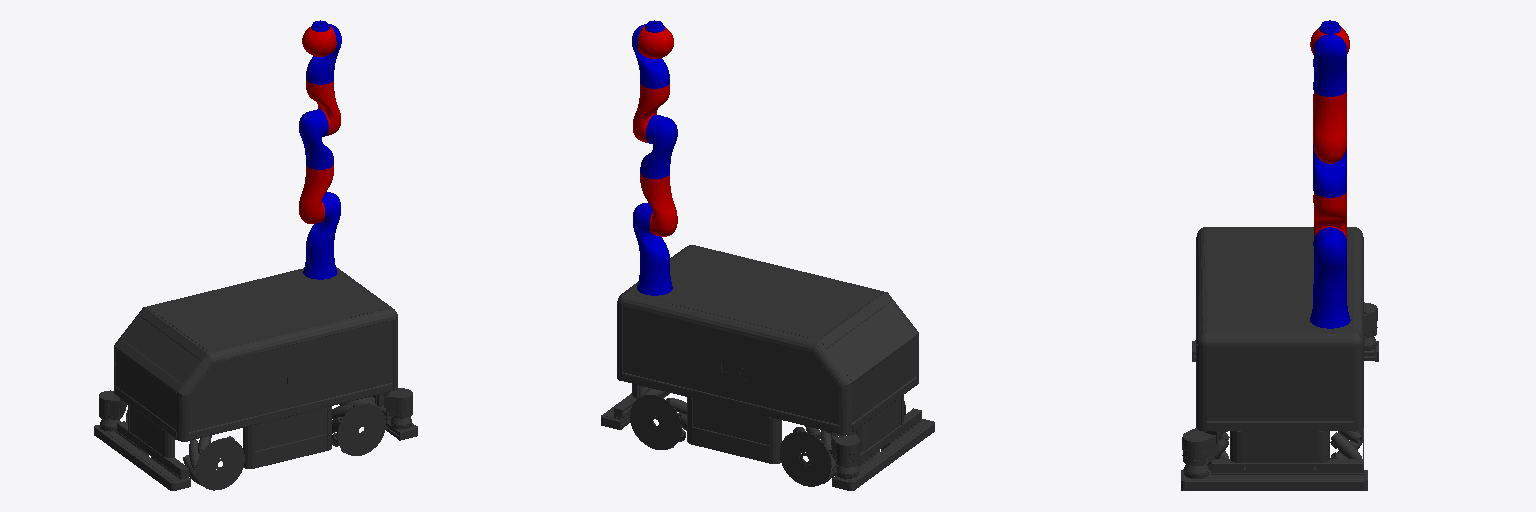
robot.urdf — omnirob:
<?xml version="1.0" ?>
<!-- =================================================================================== -->
<!-- |    This document was autogenerated by xacro from omnirob.xacro                  | -->
<!-- |    EDITING THIS FILE BY HAND IS NOT RECOMMENDED                                 | -->
<!-- =================================================================================== -->
<robot name="omnirob" xmlns:xacro="http://ros.org/wiki/xacro">
  <!-- Import all Gazebo-customization elements, including Gazebo colors -->
  <!-- ros_control plugin -->
  <gazebo>
    <plugin filename="libgazebo_ros_control.so" name="gazebo_ros_control">
      <robotNamespace>/lbr</robotNamespace>
      <robotSimType>gazebo_ros_control/DefaultRobotHWSim</robotSimType>
    </plugin>
  </gazebo>
  <!-- Link0 -->
  <gazebo reference="lbr_0_link">
    <material>Gazebo/Blue</material>
  </gazebo>
  <!-- Link1 -->
  <gazebo reference="lbr_1_link">
    <material>Gazebo/Red</material>
  </gazebo>
  <!-- Link2 -->
  <gazebo reference="lbr_2_link">
    <material>Gazebo/Blue</material>
  </gazebo>
  <!-- Link3 -->
  <gazebo reference="lbr_3_link">
    <material>Gazebo/Red</material>
  </gazebo>
  <!-- Link4 -->
  <gazebo reference="lbr_4_link">
    <material>Gazebo/Blue</material>
  </gazebo>
  <!-- Link5 -->
  <gazebo reference="lbr_5_link">
    <material>Gazebo/Red</material>
  </gazebo>
  <!-- Link6 -->
  <gazebo reference="lbr_6_link">
    <material>Gazebo/Blue</material>
  </gazebo>
  <!-- Link7 -->
  <gazebo reference="lbr_7_link">
    <material>Gazebo/Red</material>
  </gazebo>
  <!-- Import Rviz colors -->
  <material name="Blue">
    <color rgba="0.0 0.0 0.8 1.0"/>
  </material>
  <material name="Green">
    <color rgba="0.0 0.8 0.0 1.0"/>
  </material>
  <material name="Grey">
    <color rgba="0.7 0.7 0.7 1.0"/>
  </material>
  <material name="Grey2">
    <color rgba="0.9 0.9 0.9 1.0"/>
  </material>
  <material name="Red">
    <color rgba="0.8 0.0 0.0 1.0"/>
  </material>
  <material name="orange">
    <color rgba="1.0 0.423529411765 0.0392156862745 1.0"/>
  </material>
  <material name="brown">
    <color rgba="0.870588235294 0.811764705882 0.764705882353 1.0"/>
  </material>
  <material name="White">
    <color rgba="1.0 1.0 1.0 1.0"/>
  </material>
  <material name="Black">
    <color rgba="0.0 0.0 0.0 1.0"/>
  </material>
  <material name="Gray">
    <color rgba="0.25 0.25 0.25 1.0"/>
  </material>
  <link name="base_link">
    <visual>
      <origin rpy="0 0 0" xyz="0 0 0"/>
      <geometry>
        <mesh filename="package://omnirob_description/meshes/omnirob_hull.stl" scale="0.001 0.001 0.001"/>
      </geometry>
      <material name="Gray"/>
    </visual>
    <collision>
      <origin rpy="0 0 0" xyz="0 0 0"/>
      <geometry>
        <mesh filename="package://omnirob_description/meshes/omnirob_hull_low_res.stl" scale="0.001 0.001 0.001"/>
      </geometry>
    </collision>
  </link>
  <link name="laser_front_link">
        </link>
  <link name="laser_rear_link">
        </link>
  <joint name="laser_front_joint" type="fixed">
    <parent link="base_link"/>
    <child link="laser_front_link"/>
    <origin rpy="0 0 -0.78893" xyz="0.542477 -0.317722 0.13664"/>
  </joint>
  <joint name="laser_rear_joint" type="fixed">
    <parent link="base_link"/>
    <child link="laser_rear_link"/>
    <origin rpy="0 0 2.31624" xyz="-0.534443 0.32895 0.13664"/>
  </joint>
  <!-- Used for fixing robot to Gazebo 'base_link' -->
  <!--<link name="world"/>
		
		<joint name="fixed" type="fixed">
		  <parent link="world"/>
		  <child link="${name}_0_link"/>
		</joint>-->
  <link name="lbr_0_link">
    <inertial>
      <origin rpy="0 0 0" xyz="0 0 0"/>
      <mass value="1.0"/>
      <inertia ixx="0.01" ixy="0" ixz="0" iyy="0.01" iyz="0" izz="0.01"/>
    </inertial>
    <visual>
      <origin rpy="0 0 0" xyz="0 0 0"/>
      <geometry>
        <mesh filename="package://omnirob_description/meshes/lbr0.stl"/>
      </geometry>
      <material name="Blue"/>
    </visual>
    <collision>
      <origin rpy="0 0 0" xyz="0 0 0"/>
      <geometry>
        <mesh filename="package://omnirob_description/meshes/lbr0_low_res.stl"/>
      </geometry>
    </collision>
  </link>
  <!-- joint between arm_0_link and arm_1_link -->
  <joint name="lbr_1_joint" type="revolute">
    <!--<origin xyz="0 0 0.14" rpy="0 0 -2.8407"/> -->
    <origin rpy="0 0 0" xyz="0 0 0.1105"/>
    <parent link="lbr_0_link"/>
    <child link="lbr_1_link"/>
    <axis xyz="0 0 1"/>
    <dynamics damping="25"/>
    <limit effort="200" lower="-2.9670" upper="2.9670" velocity="1.9634"/>
  </joint>
  <link name="lbr_1_link">
    <inertial>
      <origin rpy="0 0 0" xyz="0 0 0"/>
      <mass value="5.9907"/>
      <inertia ixx="0.01" ixy="0" ixz="0" iyy="0.01" iyz="0" izz="0.01"/>
    </inertial>
    <visual>
      <origin rpy="0 0 0" xyz="0 0 0"/>
      <geometry>
        <mesh filename="package://omnirob_description/meshes/lbr1.stl"/>
      </geometry>
      <material name="Blue"/>
    </visual>
    <collision>
      <origin rpy="0 0 0" xyz="0 0 0"/>
      <geometry>
        <mesh filename="package://omnirob_description/meshes/lbr1_low_res.stl"/>
      </geometry>
    </collision>
  </link>
  <!-- joint between arm_1_link and arm_2_link -->
  <joint name="lbr_2_joint" type="revolute">
    <origin rpy="1.5708 0 0" xyz="0 0 0.1915"/>
    <parent link="lbr_1_link"/>
    <child link="lbr_2_link"/>
    <axis xyz="0 0 1"/>
    <dynamics damping="25"/>
    <limit effort="200" lower="-2.0943" upper="2.0943" velocity="1.9634"/>
  </joint>
  <link name="lbr_2_link">
    <inertial>
      <origin rpy="0 0 0" xyz="0 0 0.002"/>
      <mass value="5.734939"/>
      <inertia ixx="0.03" ixy="0" ixz="0" iyy="0.03" iyz="0" izz="0.03"/>
    </inertial>
    <visual>
      <origin rpy="0 0 0" xyz="0 0 0.002"/>
      <geometry>
        <mesh filename="package://omnirob_description/meshes/lbr2.stl"/>
      </geometry>
      <material name="Red"/>
    </visual>
    <collision>
      <origin rpy="0 0 0" xyz="0 0 0.002"/>
      <geometry>
        <mesh filename="package://omnirob_description/meshes/lbr2_low_res.stl"/>
      </geometry>
    </collision>
  </link>
  <!-- joint between arm_2_link and arm_3_link -->
  <joint name="lbr_3_joint" type="revolute">
    <origin rpy="-1.5708 0 0" xyz="0 0.2085 0"/>
    <parent link="lbr_2_link"/>
    <child link="lbr_3_link"/>
    <axis xyz="0 0 1"/>
    <dynamics damping="25"/>
    <limit effort="100" lower="-2.9670" upper="2.9670" velocity="1.9634"/>
  </joint>
  <link name="lbr_3_link">
    <inertial>
      <origin rpy="0 0 0" xyz="0 -0.002 0"/>
      <mass value="4.214668"/>
      <inertia ixx="0.03" ixy="0" ixz="0" iyy="0.03" iyz="0" izz="0.03"/>
    </inertial>
    <visual>
      <origin rpy="0 0 0" xyz="0 -0.002 0"/>
      <geometry>
        <mesh filename="package://omnirob_description/meshes/lbr3.stl"/>
      </geometry>
      <material name="Blue"/>
    </visual>
    <collision>
      <origin rpy="0 0 0" xyz="0 -0.002 0"/>
      <geometry>
        <mesh filename="package://omnirob_description/meshes/lbr3_low_res.stl"/>
      </geometry>
    </collision>
  </link>
  <!-- joint between arm_3_link and arm_4_link -->
  <joint name="lbr_4_joint" type="revolute">
    <origin rpy="-1.5708 0 0" xyz="0 0 0.1915"/>
    <parent link="lbr_3_link"/>
    <child link="lbr_4_link"/>
    <axis xyz="0 0 1"/>
    <dynamics damping="25"/>
    <limit effort="100" lower="-2.0943" upper="2.0943" velocity="1.9634"/>
  </joint>
  <link name="lbr_4_link">
    <inertial>
      <origin rpy="0 0 0" xyz="0 0 0"/>
      <mass value="3.669819"/>
      <inertia ixx="0.03" ixy="0" ixz="0" iyy="0.03" iyz="0" izz="0.03"/>
    </inertial>
    <visual>
      <origin rpy="0 0 0" xyz="0 0 0"/>
      <geometry>
        <mesh filename="package://omnirob_description/meshes/lbr4.stl"/>
      </geometry>
      <material name="Red"/>
    </visual>
    <collision>
      <origin rpy="0 0 0" xyz="0 0 0"/>
      <geometry>
        <mesh filename="package://omnirob_description/meshes/lbr4_low_res.stl"/>
      </geometry>
    </collision>
  </link>
  <!-- joint between arm_4_link and arm_5_link -->
  <joint name="lbr_5_joint" type="revolute">
    <origin rpy="1.5708 0 0" xyz="0 -0.2085 0"/>
    <parent link="lbr_4_link"/>
    <child link="lbr_5_link"/>
    <axis xyz="0 0 1"/>
    <dynamics damping="25"/>
    <limit effort="100" lower="-2.9670" upper="2.9670" velocity="3.1415926"/>
  </joint>
  <link name="lbr_5_link">
    <inertial>
      <origin rpy="0 0 0" xyz="0 0 0"/>
      <mass value="2.313272"/>
      <inertia ixx="0.03" ixy="0" ixz="0" iyy="0.03" iyz="0" izz="0.03"/>
    </inertial>
    <visual>
      <origin rpy="0 0 0" xyz="0 0 0"/>
      <geometry>
        <mesh filename="package://omnirob_description/meshes/lbr5.stl"/>
      </geometry>
      <material name="Blue"/>
    </visual>
    <collision>
      <origin rpy="0 0 0" xyz="0 0 0"/>
      <geometry>
        <mesh filename="package://omnirob_description/meshes/lbr5_low_res.stl"/>
      </geometry>
    </collision>
  </link>
  <!-- joint between arm_5_link and arm_6_link -->
  <joint name="lbr_6_joint" type="revolute">
    <origin rpy="1.5708 0 0" xyz="0 0 0.1815"/>
    <parent link="lbr_5_link"/>
    <child link="lbr_6_link"/>
    <axis xyz="0 0 1"/>
    <dynamics damping="25"/>
    <limit effort="30" lower="-2.0943951" upper="2.0943951" velocity="1.9634"/>
  </joint>
  <link name="lbr_6_link">
    <inertial>
      <origin rpy="0 0 0" xyz="0 0 0"/>
      <mass value="2.057856"/>
      <inertia ixx="0.01" ixy="0" ixz="0" iyy="0.01" iyz="0" izz="0.01"/>
    </inertial>
    <visual>
      <origin rpy="0 0 0" xyz="0 0 -0.046"/>
      <geometry>
        <mesh filename="package://omnirob_description/meshes/lbr6.stl"/>
      </geometry>
      <material name="Red"/>
    </visual>
    <collision>
      <origin rpy="0 0 0" xyz="0 0 -0.046"/>
      <geometry>
        <mesh filename="package://omnirob_description/meshes/lbr6_low_res.stl"/>
      </geometry>
    </collision>
  </link>
  <!-- joint between arm_6_link and arm_7_link -->
  <joint name="lbr_7_joint" type="revolute">
    <origin rpy="-1.5708 0 0" xyz="0 0.057 0"/>
    <parent link="lbr_6_link"/>
    <child link="lbr_7_link"/>
    <axis xyz="0 0 1"/>
    <dynamics damping="25"/>
    <limit effort="30" lower="-2.9670" upper="2.9670" velocity="1.9634"/>
  </joint>
  <link name="lbr_7_link">
    <inertial>
      <origin rpy="0 0 0" xyz="0 0 0"/>
      <mass value="1.120198"/>
      <inertia ixx="0.01" ixy="0" ixz="0" iyy="0.01" iyz="0" izz="0.01"/>
    </inertial>
    <visual>
      <origin rpy="0 0 0" xyz="0 0 0"/>
      <geometry>
        <mesh filename="package://omnirob_description/meshes/lbr7.stl"/>
      </geometry>
      <material name="Blue"/>
    </visual>
    <collision>
      <origin rpy="0 0 0" xyz="0 0 0"/>
      <geometry>
        <mesh filename="package://omnirob_description/meshes/lbr7_low_res.stl"/>
      </geometry>
    </collision>
  </link>
  <joint name="flange" type="fixed">
    <parent link="lbr_7_link"/>
    <child link="lbr_flange_link"/>
    <origin rpy="0 0 0" xyz="0 0 0.0195"/>
  </joint>
  <link name="lbr_flange_link">
		</link>
  <transmission name="lbr_1_joint_trans">
    <type>pr2_mechanism_model/SimpleTransmission</type>
    <joint name="lbr_1_joint">
      <hardwareInterface>EffortJointInterface</hardwareInterface>
    </joint>
    <actuator name="lbr_1_joint_motor">
      <hardwareInterface>EffortJointInterface</hardwareInterface>
      <mechanicalReduction>1</mechanicalReduction>
    </actuator>
  </transmission>
  <transmission name="lbr_2_joint_trans">
    <type>pr2_mechanism_model/SimpleTransmission</type>
    <joint name="lbr_2_joint">
      <hardwareInterface>EffortJointInterface</hardwareInterface>
    </joint>
    <actuator name="lbr_2_joint_motor">
      <hardwareInterface>EffortJointInterface</hardwareInterface>
      <mechanicalReduction>1</mechanicalReduction>
    </actuator>
  </transmission>
  <transmission name="lbr_3_joint_trans">
    <type>pr2_mechanism_model/SimpleTransmission</type>
    <joint name="lbr_3_joint">
      <hardwareInterface>EffortJointInterface</hardwareInterface>
    </joint>
    <actuator name="lbr_3_joint_motor">
      <hardwareInterface>EffortJointInterface</hardwareInterface>
      <mechanicalReduction>1</mechanicalReduction>
    </actuator>
  </transmission>
  <transmission name="lbr_4_joint_trans">
    <type>pr2_mechanism_model/SimpleTransmission</type>
    <joint name="lbr_4_joint">
      <hardwareInterface>EffortJointInterface</hardwareInterface>
    </joint>
    <actuator name="lbr_4_joint_motor">
      <hardwareInterface>EffortJointInterface</hardwareInterface>
      <mechanicalReduction>1</mechanicalReduction>
    </actuator>
  </transmission>
  <transmission name="lbr_5_joint_trans">
    <type>pr2_mechanism_model/SimpleTransmission</type>
    <actuator name="lbr_5_joint_motor">
      <hardwareInterface>EffortJointInterface</hardwareInterface>
      <mechanicalReduction>1</mechanicalReduction>
    </actuator>
    <joint name="lbr_5_joint">
      <hardwareInterface>EffortJointInterface</hardwareInterface>
    </joint>
  </transmission>
  <transmission name="lbr_6_joint_trans">
    <type>pr2_mechanism_model/SimpleTransmission</type>
    <actuator name="lbr_6_joint_motor">
      <hardwareInterface>EffortJointInterface</hardwareInterface>
      <mechanicalReduction>1</mechanicalReduction>
    </actuator>
    <joint name="lbr_6_joint">
      <hardwareInterface>EffortJointInterface</hardwareInterface>
    </joint>
  </transmission>
  <transmission name="lbr_7_joint_trans">
    <type>pr2_mechanism_model/SimpleTransmission</type>
    <actuator name="lbr_7_joint_motor">
      <hardwareInterface>EffortJointInterface</hardwareInterface>
      <mechanicalReduction>1</mechanicalReduction>
    </actuator>
    <joint name="lbr_7_joint">
      <hardwareInterface>EffortJointInterface</hardwareInterface>
    </joint>
  </transmission>
  <joint name="omnirob_base_joint" type="fixed">
    <origin rpy="0 0 -1.5708" xyz="0.42 0.18 0.655"/>
    <parent link="base_link"/>
    <child link="lbr_0_link"/>
  </joint>
</robot>

--- Render facts (derived) ---
Views: 3 orthographic renders of the robot side by side, from view 1: azimuth 30°, elevation 25°; view 2: azimuth 150°, elevation 25°; view 3: azimuth 270°, elevation 25°.
Robot: omnirob — 12 links, 11 joints (7 revolute, 4 fixed); root link base_link; default pose: all joints at 0.
Links seen in each view (by area): view 1: base_link, lbr_3_link, lbr_2_link, lbr_1_link, lbr_4_link, lbr_5_link, lbr_0_link, lbr_6_link; view 2: base_link, lbr_3_link, lbr_2_link, lbr_1_link, lbr_4_link, lbr_5_link, lbr_0_link, lbr_6_link; view 3: base_link, lbr_4_link, lbr_1_link, lbr_5_link, lbr_3_link, lbr_0_link, lbr_2_link.
Link boxes in pixels (<box>): base_link: <box>94,267,417,490</box>; lbr_3_link: <box>299,109,333,169</box>; lbr_2_link: <box>299,165,333,223</box>; lbr_1_link: <box>306,192,340,252</box>; lbr_4_link: <box>306,80,340,135</box>; lbr_5_link: <box>306,24,341,84</box>; lbr_0_link: <box>303,248,336,279</box>; lbr_6_link: <box>302,26,336,56</box>; base_link: <box>601,245,934,490</box>; lbr_3_link: <box>640,115,677,178</box>; lbr_2_link: <box>640,173,677,236</box>; lbr_1_link: <box>633,203,669,268</box>; lbr_4_link: <box>633,84,669,142</box>; lbr_5_link: <box>632,24,669,88</box>; lbr_0_link: <box>637,262,672,295</box>; lbr_6_link: <box>638,26,673,58</box>; base_link: <box>1181,227,1378,490</box>; lbr_4_link: <box>1313,91,1346,163</box>; lbr_1_link: <box>1313,227,1346,298</box>; lbr_5_link: <box>1313,34,1346,96</box>; lbr_3_link: <box>1313,144,1346,197</box>; lbr_0_link: <box>1310,290,1350,328</box>; lbr_2_link: <box>1313,192,1346,241</box>.
Bounding box of the posed robot: 1.2 × 0.712 × 1.82 m (x, y, z).
Meshes: 9 distinct files referenced, 9 mesh visuals loaded (9 binary STL).
